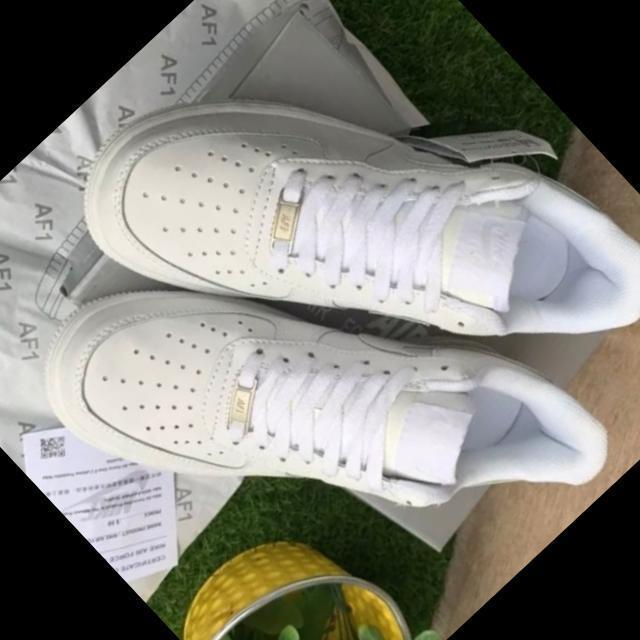nike fake air force: (44, 0, 640, 560), (35, 124, 639, 640)
